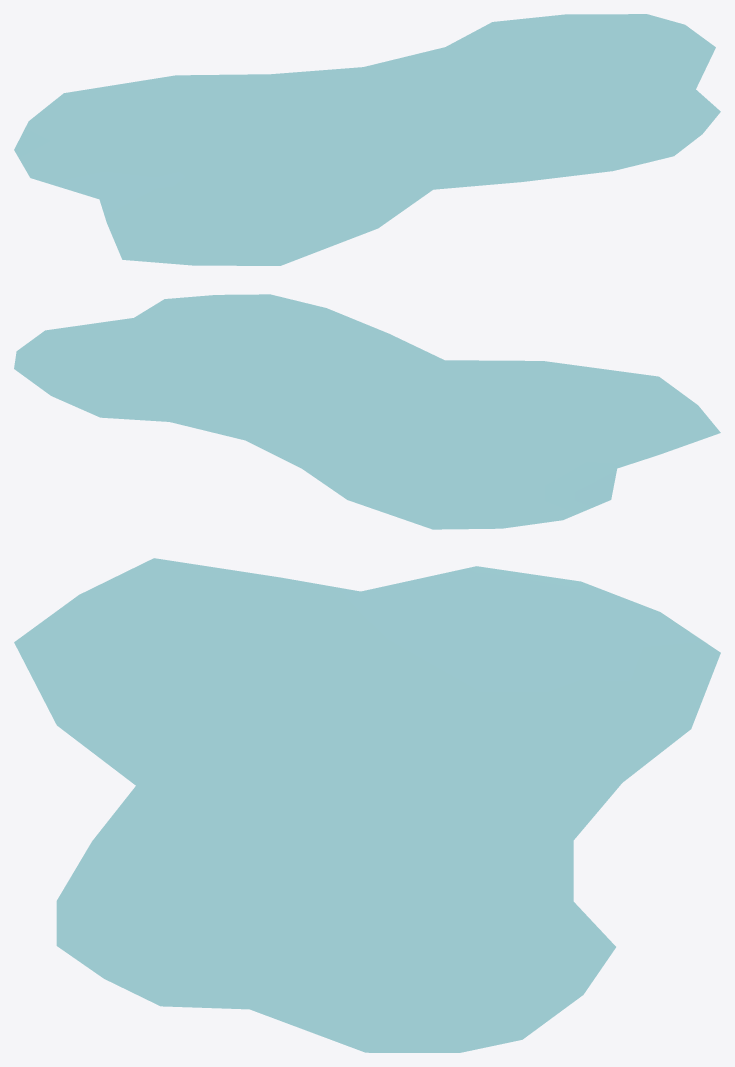
The model's file is lakeinsideground.fbx.
The picture shows the model from 3 angles, top to bottom: view 1: azimuth 30°, elevation 25°; view 2: azimuth 150°, elevation 25°; view 3: azimuth 270°, elevation 25°; orthographic projection. The views are drawn at different scales.
Parts seen in each view (by area): view 1: polySurface15; view 2: polySurface15; view 3: polySurface15.
Part boxes in pixels (<box>): polySurface15: <box>14,14,720,265</box>; polySurface15: <box>14,294,720,529</box>; polySurface15: <box>14,558,720,1052</box>.
Size of the model in its own units: 20.53 by 0.0438 by 12.4.
